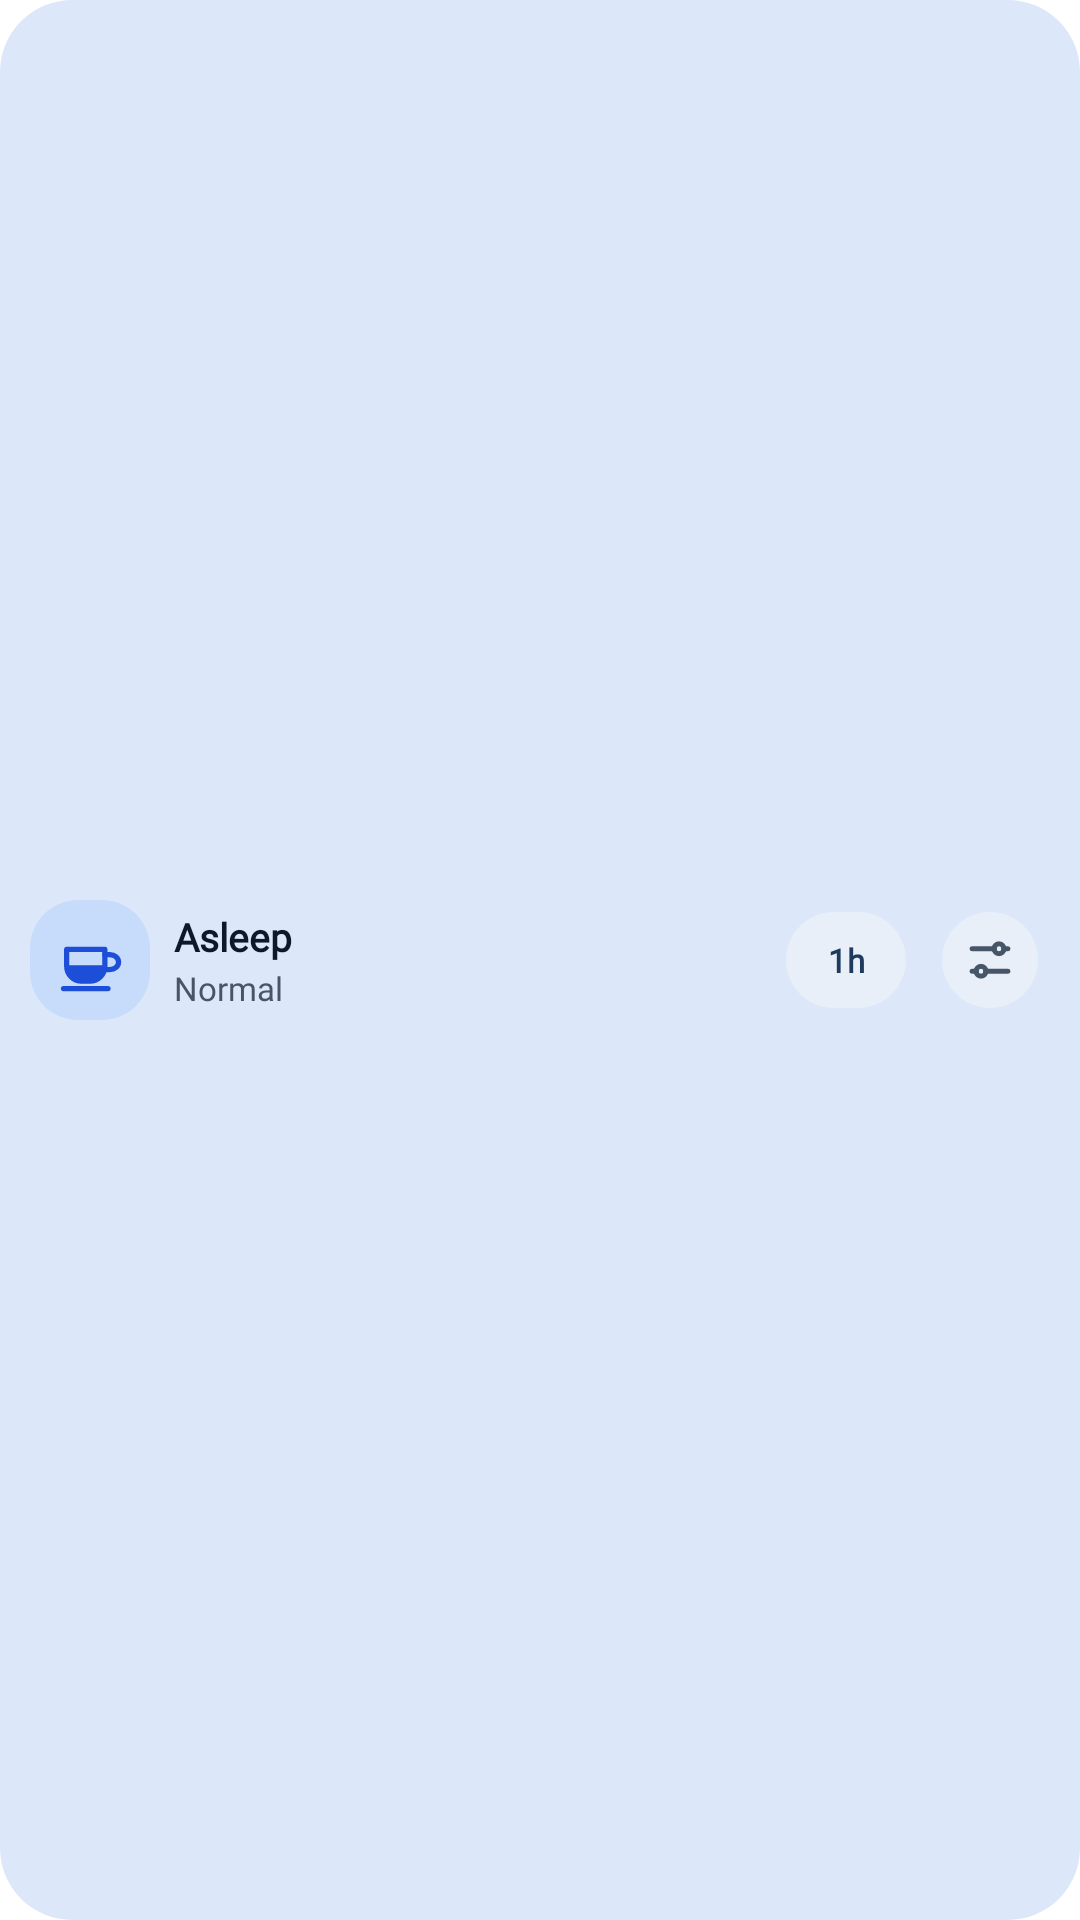

Icon click points for this 1080 x 1920 phone screenshot, format (x,y):
widget settings: (990,960)
